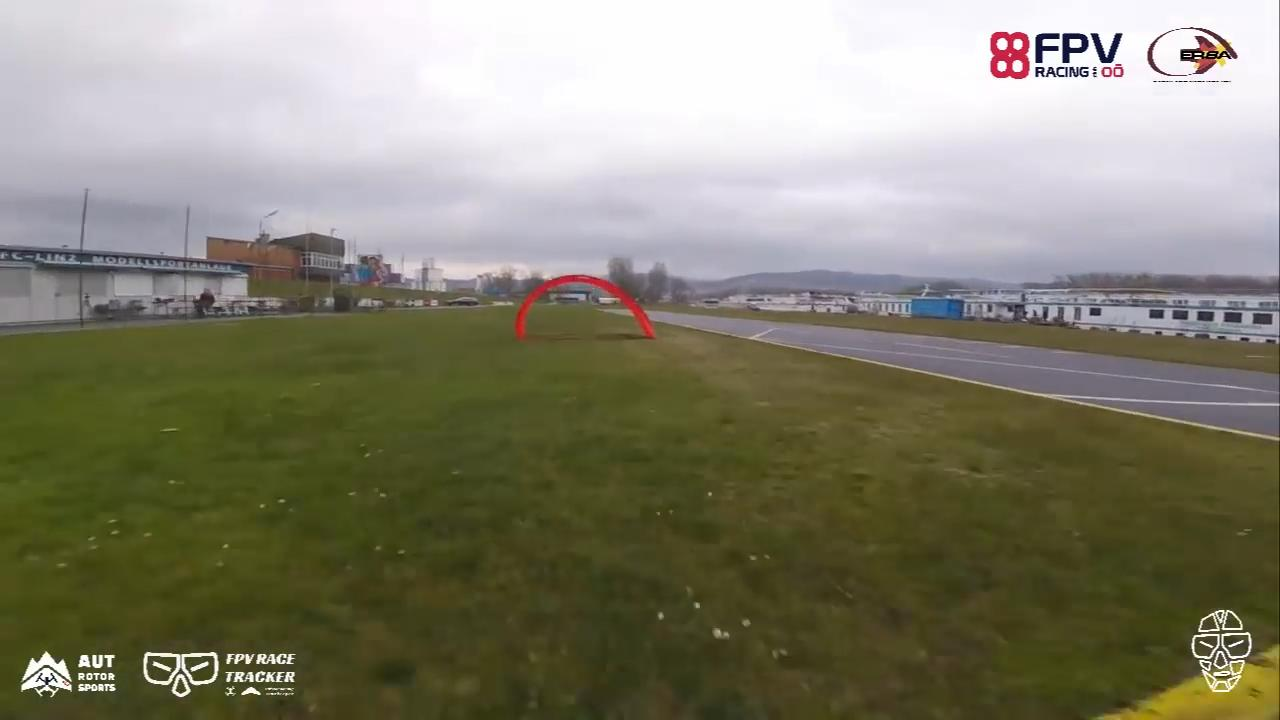gate: (515, 274, 657, 340)
